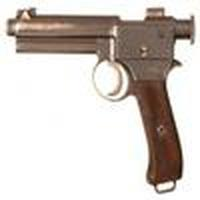gun: (6, 4, 200, 188)
